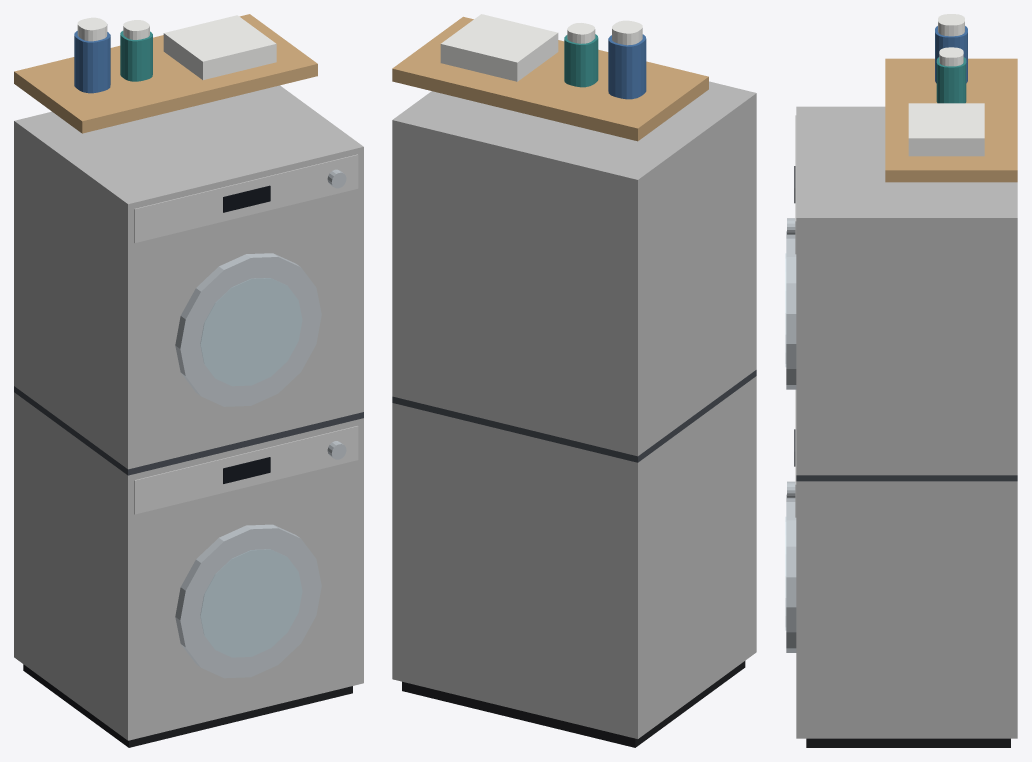
Rendered from washer_dryer_stack.glb.
3 renders of one model, left to right at view 1: azimuth 30°, elevation 25°; view 2: azimuth 150°, elevation 25°; view 3: azimuth 270°, elevation 25°, orthographic. The views are drawn at different scales.
Visible parts, largest first — view 1: washer_dryer_stack_Body; view 2: washer_dryer_stack_Body; view 3: washer_dryer_stack_Body.
Boxes of the visible parts, x1,y1,x2,y2 form: washer_dryer_stack_Body: [14, 14, 363, 747]; washer_dryer_stack_Body: [392, 14, 756, 747]; washer_dryer_stack_Body: [785, 14, 1017, 747].
Bounding box in the file's own units: 0.8 × 2.14 × 0.703.
